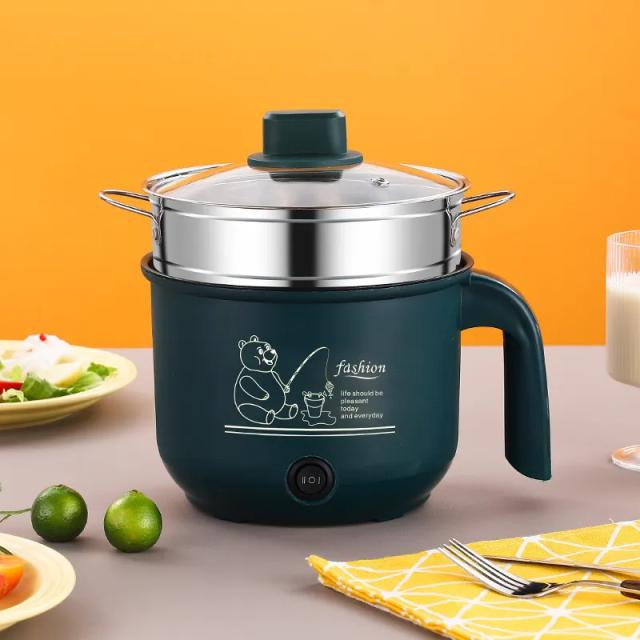appliances: (101, 110, 549, 522)
